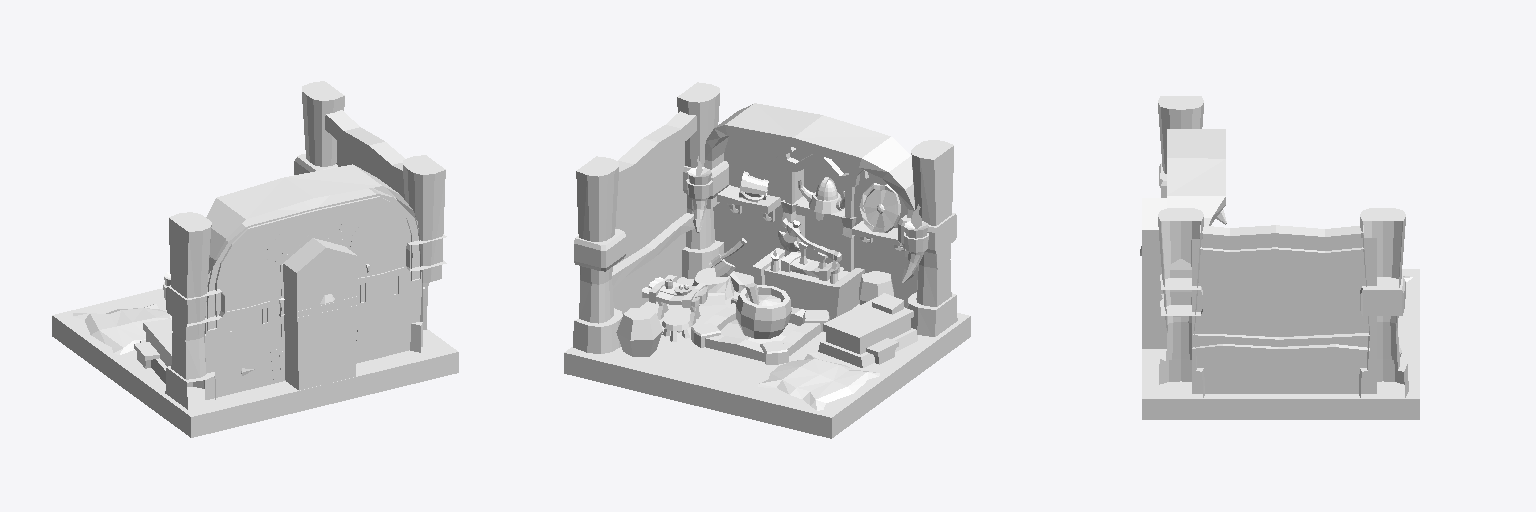
Rendered from VikingRoom.obj.
The picture shows the model from 3 angles: view 1: azimuth 30°, elevation 25°; view 2: azimuth 150°, elevation 25°; view 3: azimuth 270°, elevation 25°; orthographic projection.
Parts seen in each view (by area): view 1: model_VikingRoom; view 2: model_VikingRoom; view 3: model_VikingRoom.
Boxes of the visible parts, <box> form: model_VikingRoom: <box>52,81,458,437</box>; model_VikingRoom: <box>564,82,970,438</box>; model_VikingRoom: <box>1140,96,1419,419</box>.
Size of the model in its own units: 1.46 by 1.03 by 1.33.